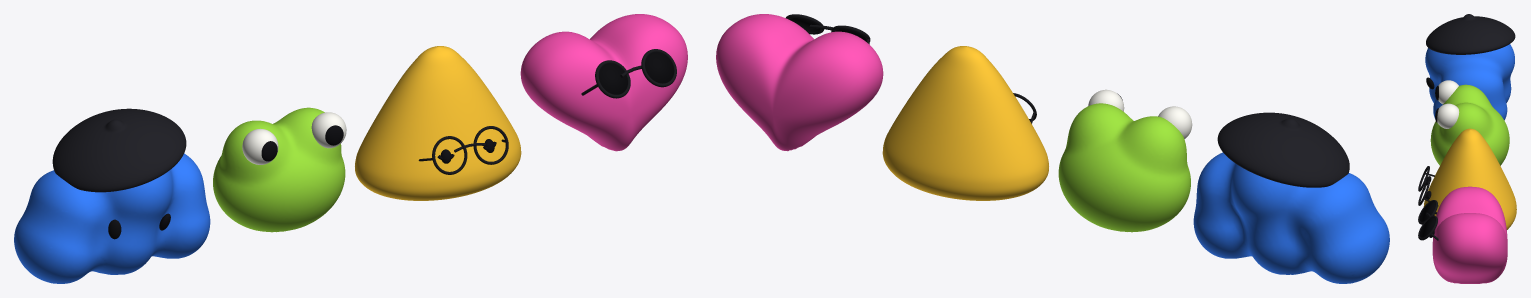
The model's file is agents.glb.
The picture shows the model from 3 angles, left to right: view 1: azimuth 30°, elevation 25°; view 2: azimuth 150°, elevation 25°; view 3: azimuth 270°, elevation 25°; orthographic projection. The views are drawn at different scales.
Visible parts, largest first — view 1: Sol_Body, Nimbus_Body, Rosie_Body, Moss_Body, Nimbus_Beret_Fuzz, Rosie_Shades, Sol_Glasses, Moss_EyeWhite_R, Moss_EyeWhite_L; view 2: Sol_Body, Nimbus_Body, Rosie_Body, Moss_Body, Nimbus_Beret_Fuzz, Rosie_Shades, Moss_EyeWhite_R, Moss_EyeWhite_L; view 3: Rosie_Body, Sol_Body, Nimbus_Body, Moss_Body, Nimbus_Beret_Fuzz, Rosie_Shades, Moss_EyeWhite_L, Moss_EyeWhite_R, Sol_Glasses.
Part boxes in pixels (bbox=[...]): Sol_Body: bbox=[355, 46, 521, 200]; Nimbus_Body: bbox=[14, 153, 210, 283]; Rosie_Body: bbox=[520, 14, 687, 151]; Moss_Body: bbox=[213, 107, 345, 232]; Nimbus_Beret_Fuzz: bbox=[52, 108, 186, 192]; Rosie_Shades: bbox=[581, 49, 676, 98]; Sol_Glasses: bbox=[418, 126, 508, 174]; Moss_EyeWhite_R: bbox=[242, 128, 278, 164]; Moss_EyeWhite_L: bbox=[311, 112, 346, 148]; Sol_Body: bbox=[882, 46, 1048, 200]; Nimbus_Body: bbox=[1193, 152, 1389, 283]; Rosie_Body: bbox=[716, 14, 883, 151]; Moss_Body: bbox=[1058, 103, 1190, 232]; Nimbus_Beret_Fuzz: bbox=[1217, 112, 1349, 187]; Rosie_Shades: bbox=[786, 14, 870, 44]; Moss_EyeWhite_R: bbox=[1158, 106, 1192, 138]; Moss_EyeWhite_L: bbox=[1088, 89, 1124, 111]; Rosie_Body: bbox=[1432, 186, 1507, 283]; Sol_Body: bbox=[1423, 128, 1516, 229]; Nimbus_Body: bbox=[1425, 44, 1514, 120]; Moss_Body: bbox=[1430, 84, 1509, 165]; Nimbus_Beret_Fuzz: bbox=[1426, 14, 1515, 54]; Rosie_Shades: bbox=[1418, 200, 1438, 240]; Moss_EyeWhite_L: bbox=[1437, 103, 1459, 128]; Moss_EyeWhite_R: bbox=[1438, 80, 1458, 104]; Sol_Glasses: bbox=[1418, 166, 1438, 206].
Size of the model in its own units: 3.56 by 0.7184 by 0.6565.
